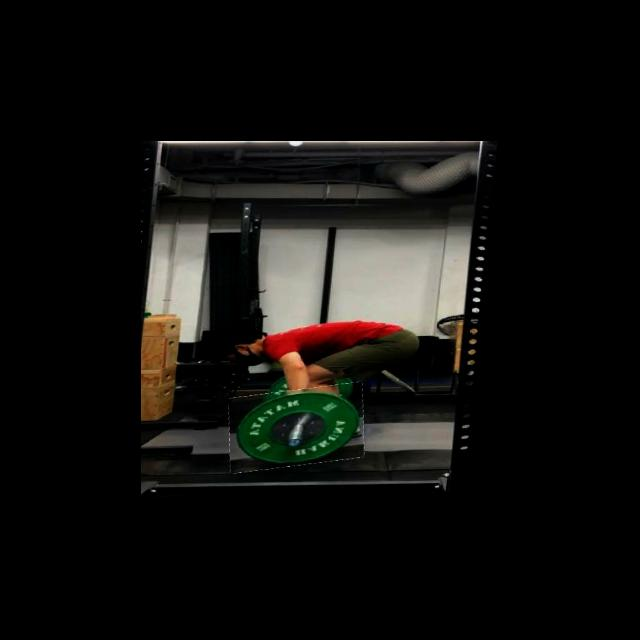barbell: (231, 386, 373, 471)
